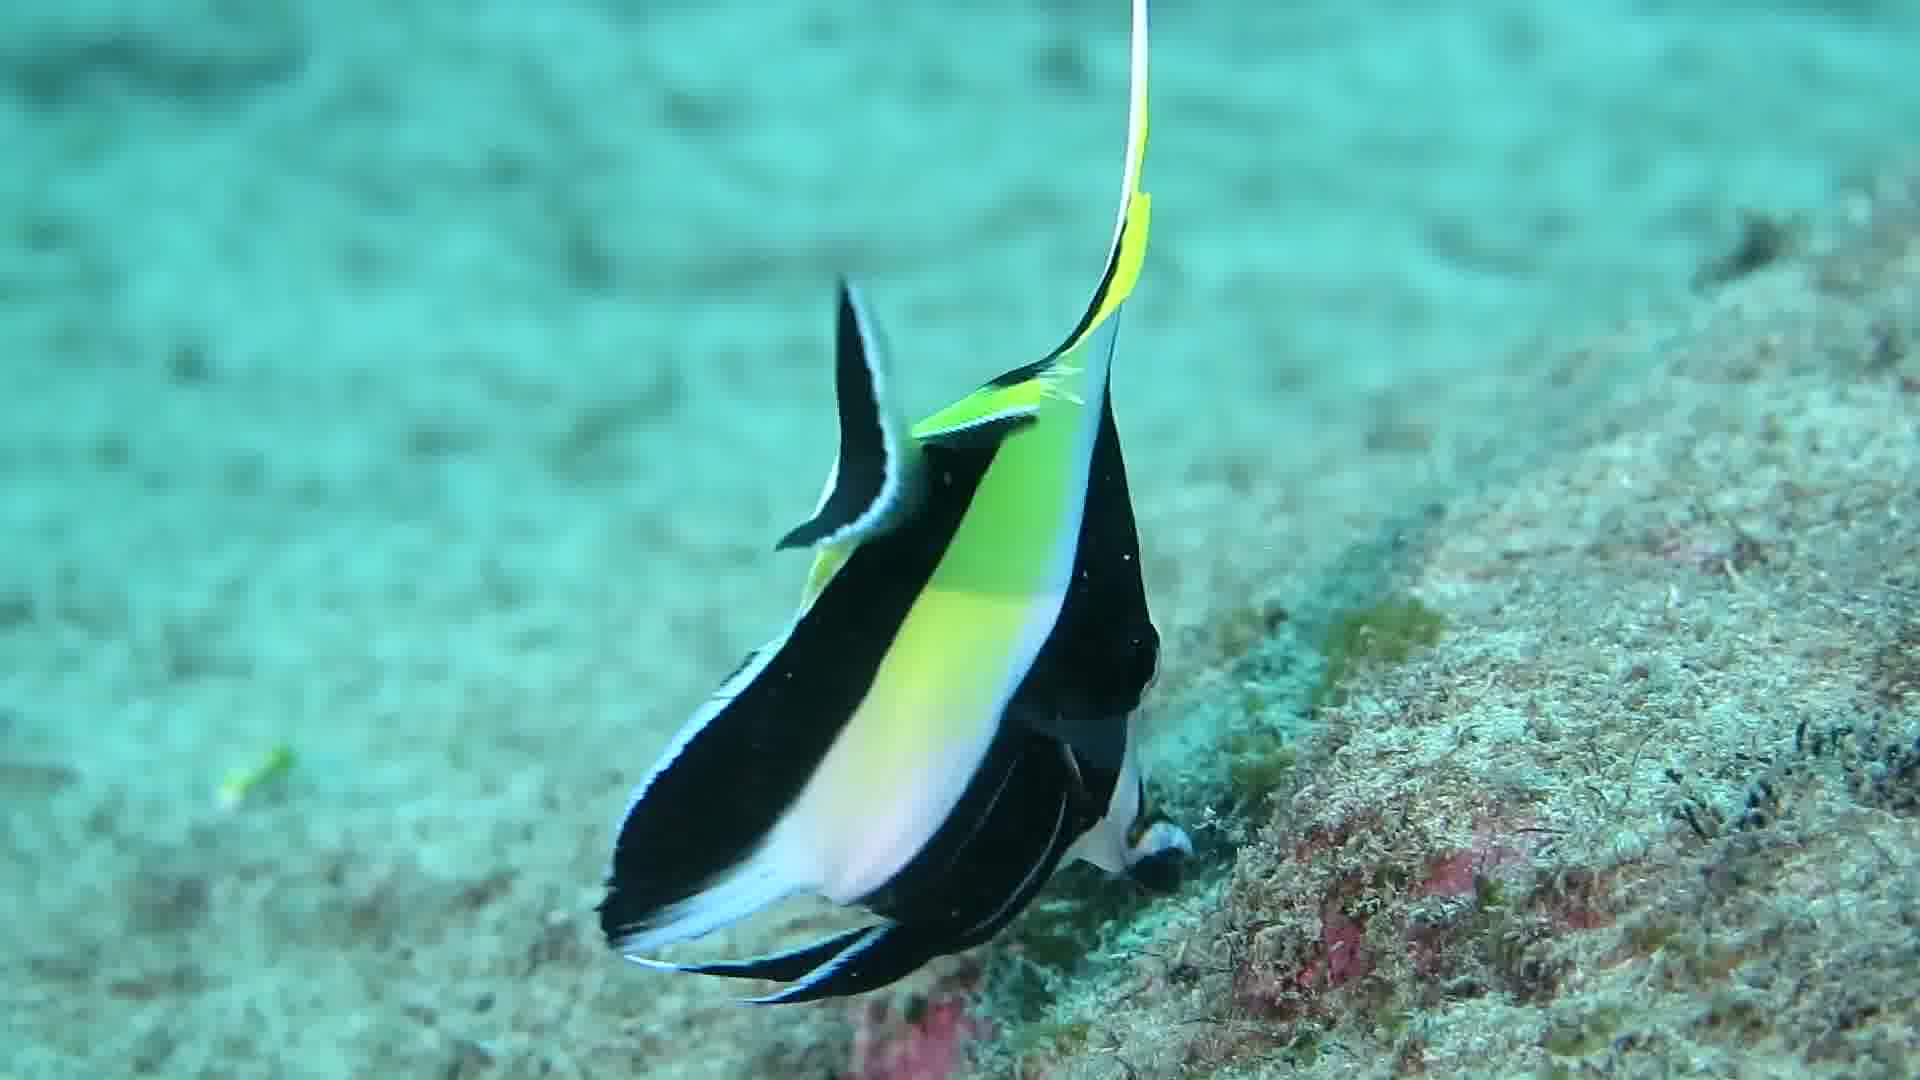Zanclus cornutus: (603, 299, 1296, 1062)
